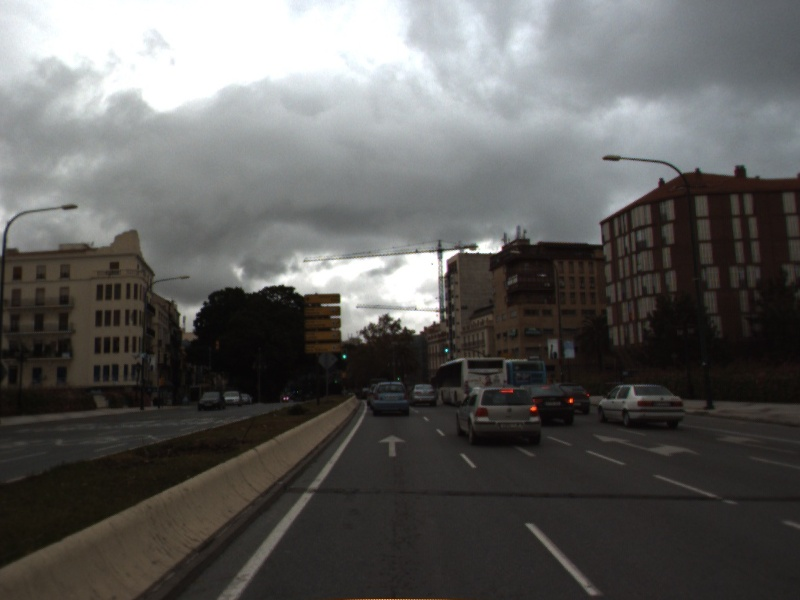RIGHT: (713, 430, 800, 456)
STRAIGHT: (376, 432, 410, 459)
STRAIGHT_RIGHT: (589, 431, 704, 459)
